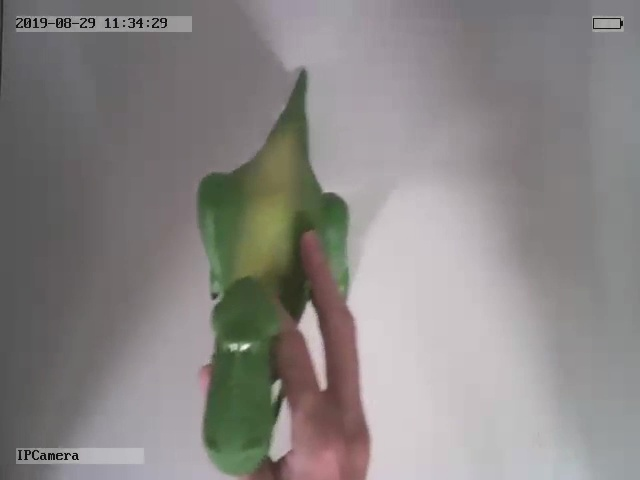rex: (194, 68, 352, 474)
